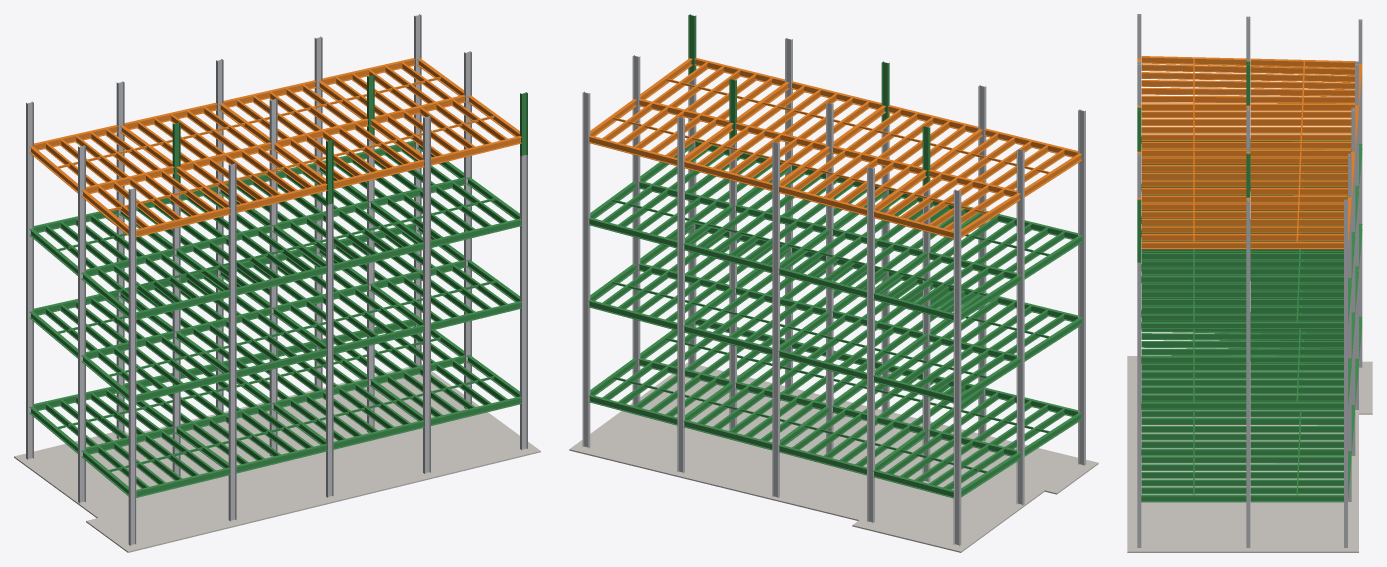
File: ismerely_r8_presentacion.glb
3 views of the same model, side by side, from view 1: azimuth 30°, elevation 25°; view 2: azimuth 150°, elevation 25°; view 3: azimuth 270°, elevation 25° (orthographic). The views are drawn at different scales.
Parts seen in each view (by area): view 1: RA_VERDE, RA_GRIS, RA_CONCRETO, RA_NARANJA; view 2: RA_VERDE, RA_GRIS, RA_NARANJA, RA_CONCRETO; view 3: RA_VERDE, RA_NARANJA, RA_CONCRETO, RA_GRIS.
Boxes of the visible parts, x1,y1,x2,y2 form: RA_VERDE: [29, 74, 527, 497]; RA_GRIS: [26, 14, 527, 545]; RA_CONCRETO: [14, 364, 540, 552]; RA_NARANJA: [29, 58, 521, 237]; RA_VERDE: [588, 14, 1083, 498]; RA_GRIS: [582, 38, 1085, 546]; RA_NARANJA: [588, 58, 1082, 238]; RA_CONCRETO: [569, 362, 1098, 552]; RA_VERDE: [1137, 61, 1362, 502]; RA_NARANJA: [1137, 56, 1362, 249]; RA_CONCRETO: [1127, 356, 1372, 552]; RA_GRIS: [1137, 14, 1362, 547].
Size of the model in its own units: 34 by 28.1 by 18.
